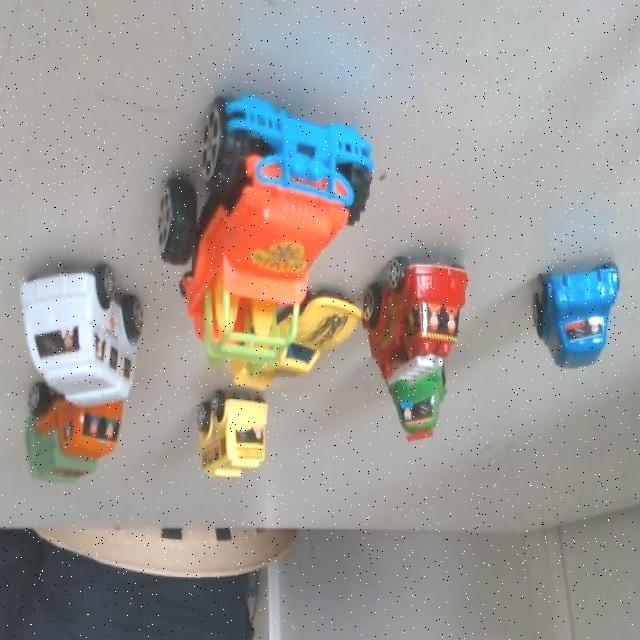car: (213, 80, 384, 292), (523, 232, 639, 384), (238, 272, 364, 393), (27, 276, 137, 393), (382, 246, 472, 382), (38, 378, 130, 487), (390, 346, 458, 436), (214, 396, 276, 486)
